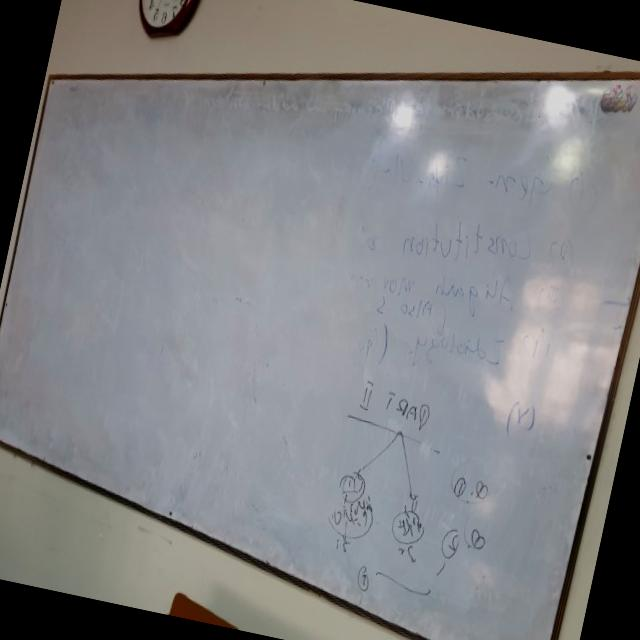White-board: (0, 75, 640, 640)
